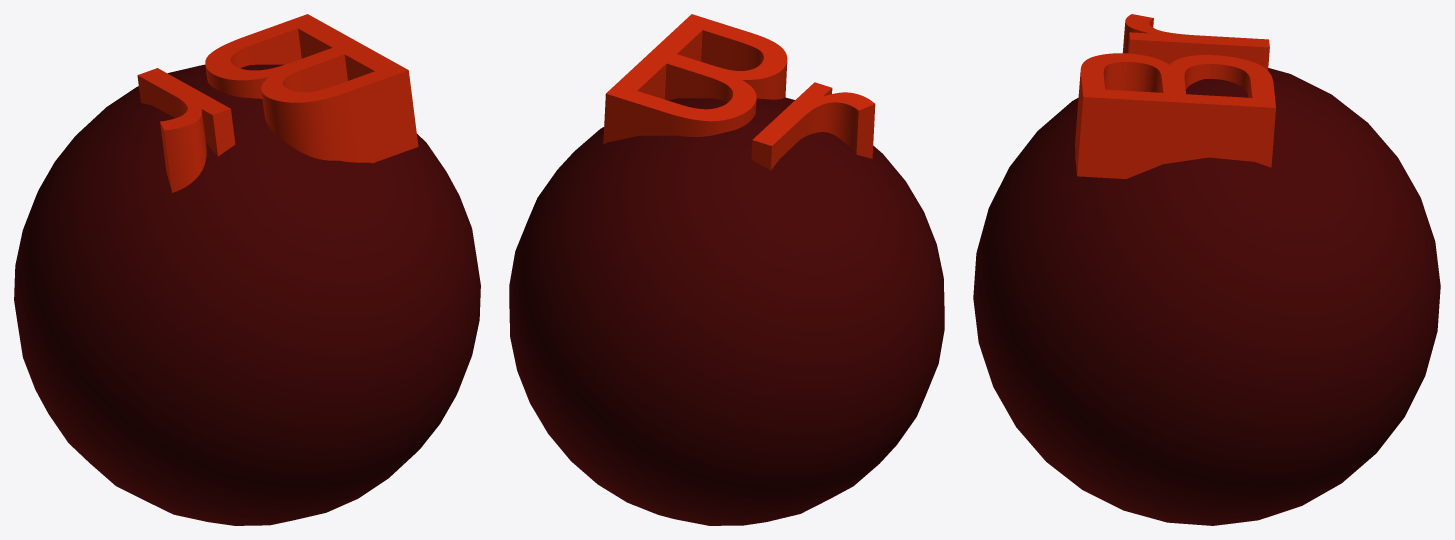
The picture shows the model from 3 angles, left to right: view 1: azimuth 30°, elevation 25°; view 2: azimuth 150°, elevation 25°; view 3: azimuth 270°, elevation 25°; orthographic projection. The views are drawn at different scales.
Visible parts, largest first — view 1: Br; view 2: Br; view 3: Br.
Part boxes in pixels (x1,y1,x2,y2): Br: (14, 14, 480, 525); Br: (509, 14, 944, 525); Br: (973, 14, 1440, 525).
Bounding box in the file's own units: 38.64 × 41.61 × 38.72.
